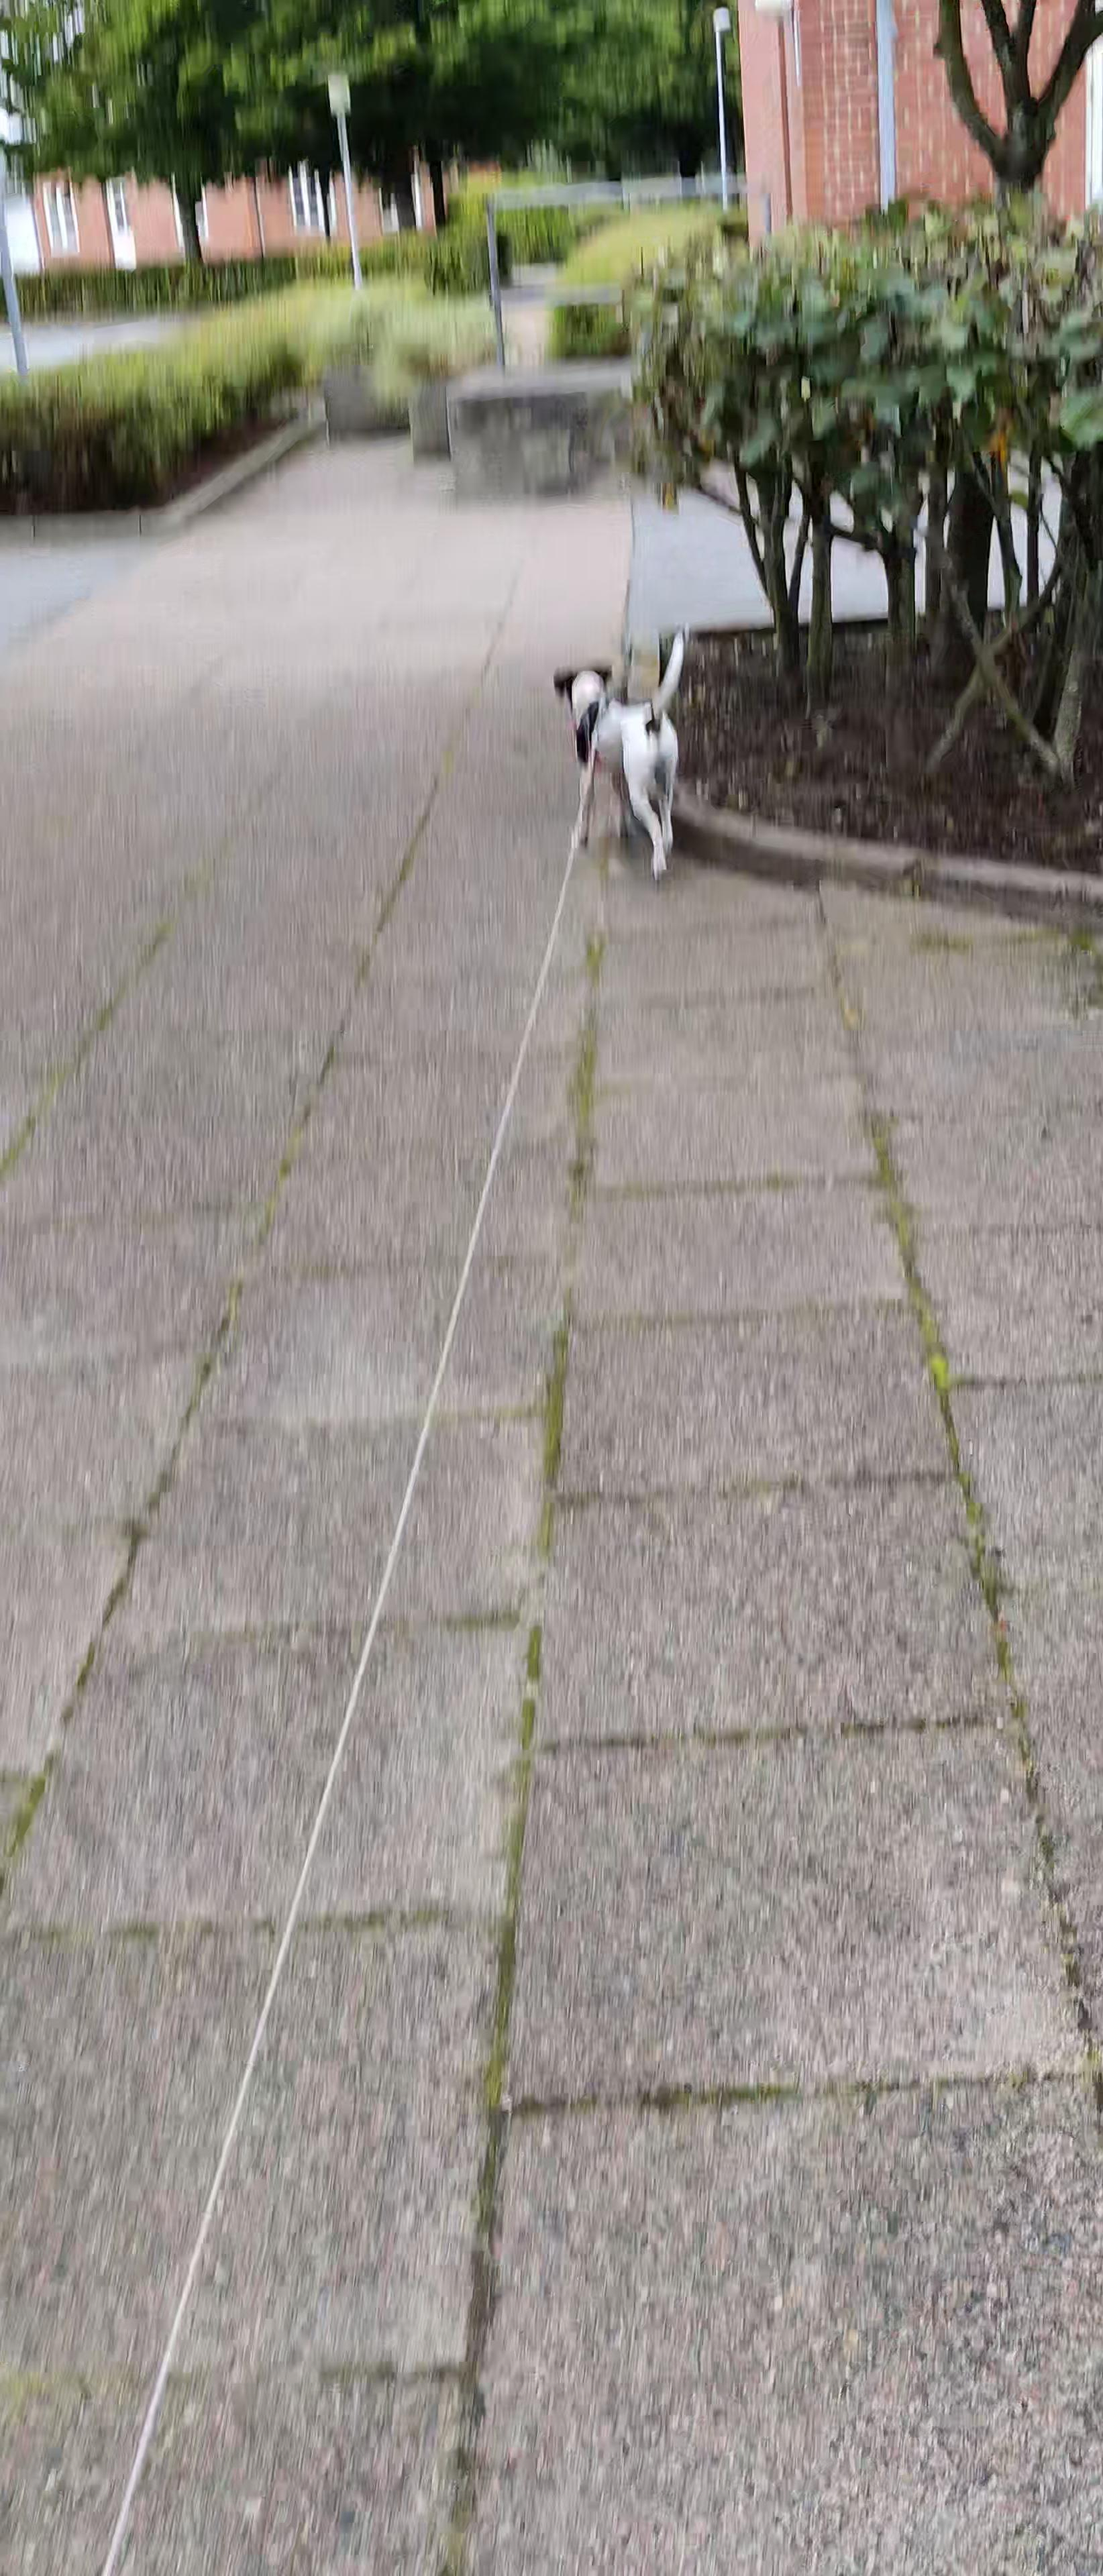Dog: (547, 618, 689, 884)
